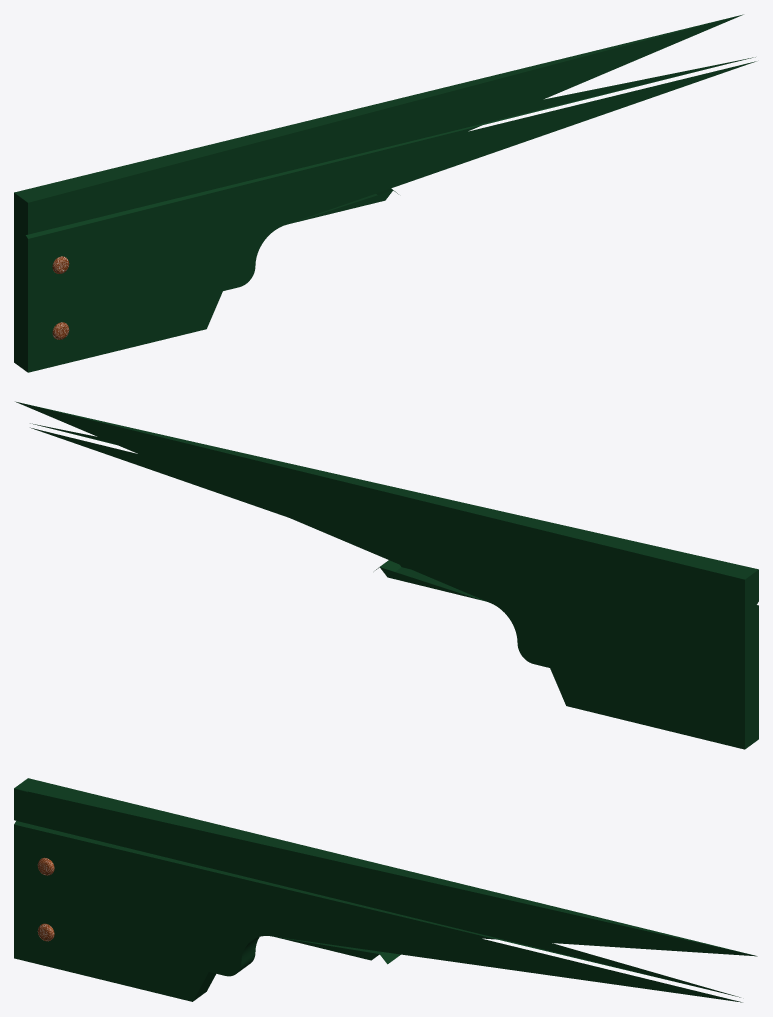
3 renders of one model, top to bottom at view 1: azimuth 30°, elevation 25°; view 2: azimuth 150°, elevation 25°; view 3: azimuth 330°, elevation 25°, orthographic.
Bounding box in the file's own units: 0.5154 × 0.1145 × 0.02.
